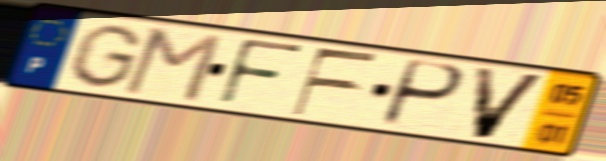F: (214, 35, 308, 109), (289, 46, 383, 119)
G: (63, 22, 147, 91)
M: (118, 25, 227, 105)
P: (376, 57, 469, 130)
V: (470, 64, 552, 142)
